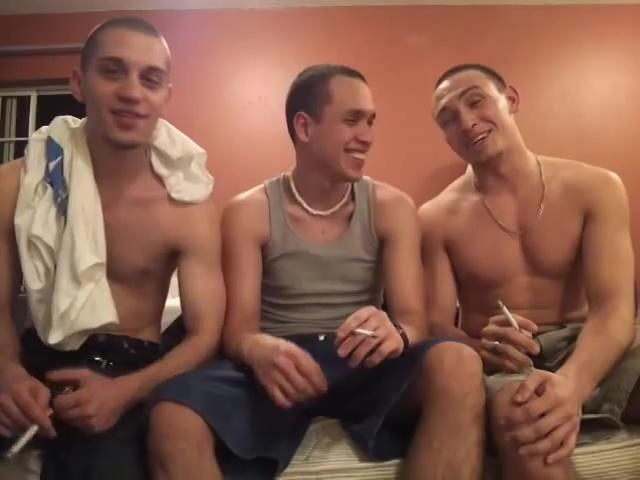cigarette: (6, 403, 62, 458), (496, 296, 523, 336), (351, 327, 384, 341)
